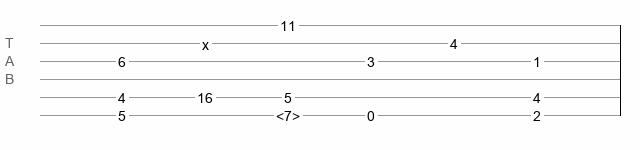0: (367, 108, 375, 118)
1: (533, 54, 541, 64)
11: (280, 18, 296, 28)
16: (197, 90, 213, 100)
2: (533, 108, 541, 118)
3: (367, 54, 375, 64)
4: (118, 90, 126, 100), (450, 36, 458, 46), (533, 90, 541, 100)
5: (118, 108, 126, 118), (284, 90, 292, 100)
6: (118, 54, 126, 64)
harmonic: (276, 108, 300, 118)
x: (202, 37, 209, 45)
